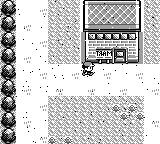main: (82, 61, 95, 76)
no-caminable: (83, 0, 143, 63), (0, 0, 16, 144)
puerta: (114, 49, 126, 63)
